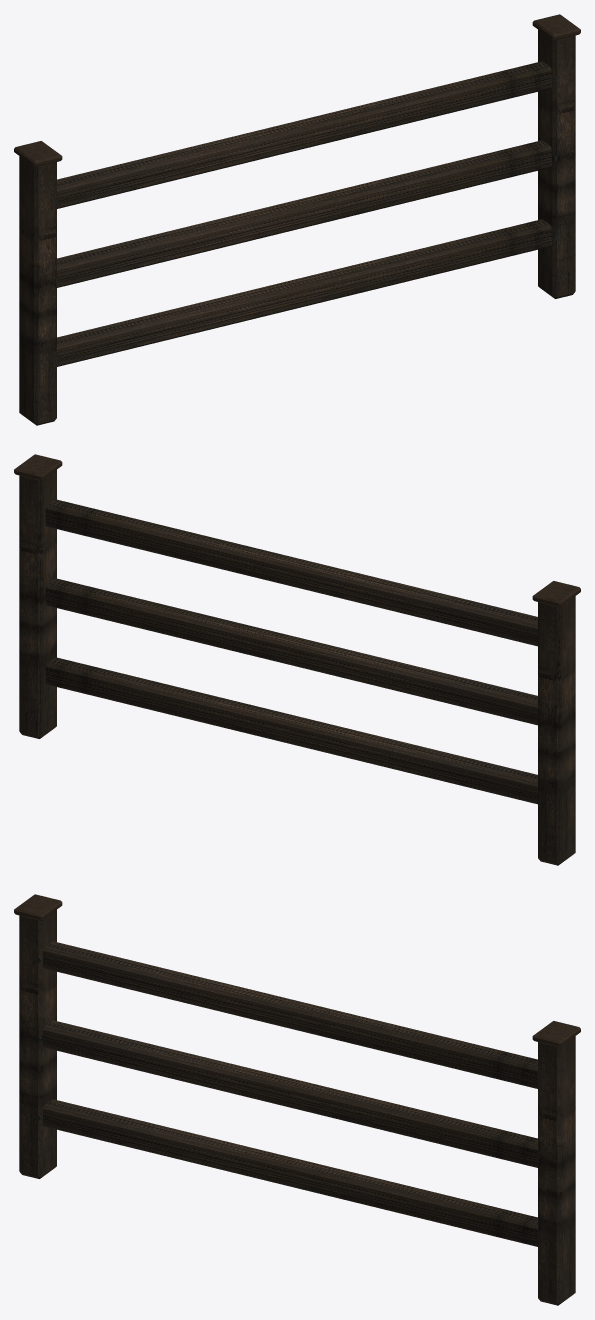
Rendered from level_stall.glb.
3 renders of one model, top to bottom at view 1: azimuth 30°, elevation 25°; view 2: azimuth 150°, elevation 25°; view 3: azimuth 330°, elevation 25°, orthographic.
Visible parts, largest first — view 1: level_stall; view 2: level_stall; view 3: level_stall.
Part boxes in pixels (box(x1,y1,x2,y2)): level_stall: box(14, 14, 580, 425); level_stall: box(14, 454, 580, 865); level_stall: box(14, 894, 580, 1305).
Size of the model in its own units: 2.83 by 1.32 by 0.19.
3 materials, 3 textured.
